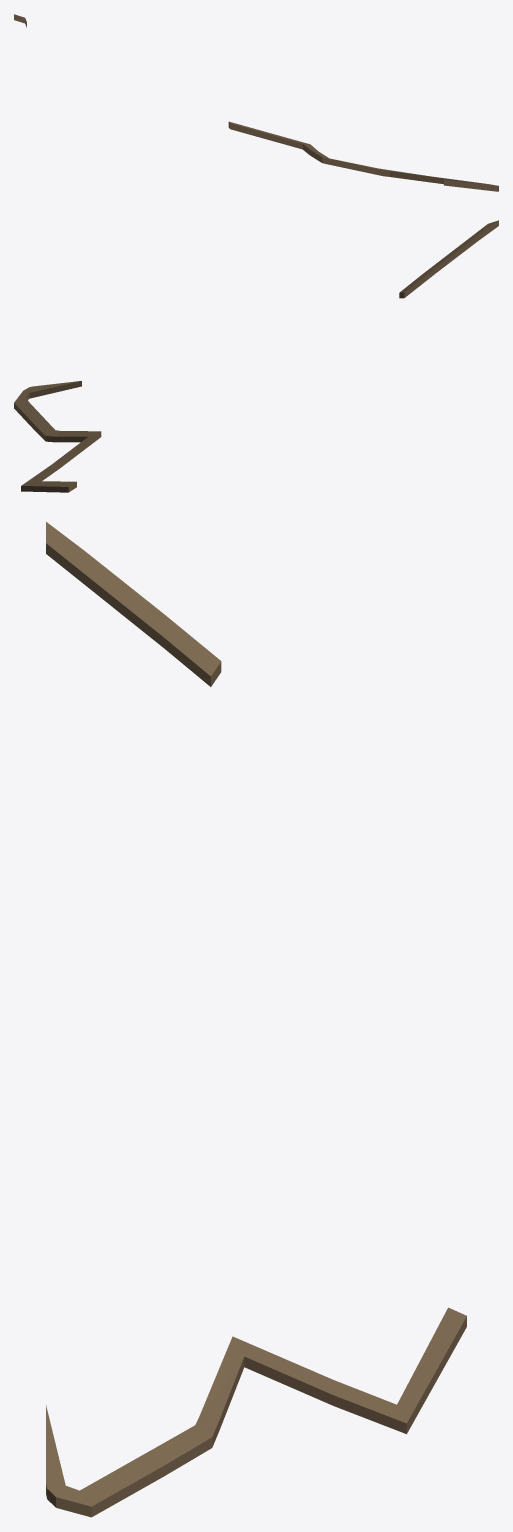
3 views of the same model, one above another, from view 1: azimuth 30°, elevation 25°; view 2: azimuth 150°, elevation 25°; view 3: azimuth 270°, elevation 25° (orthographic). The views are drawn at different scales.
Bounding box in the file's own units: 60.99 × 36.33 × 24.81.
